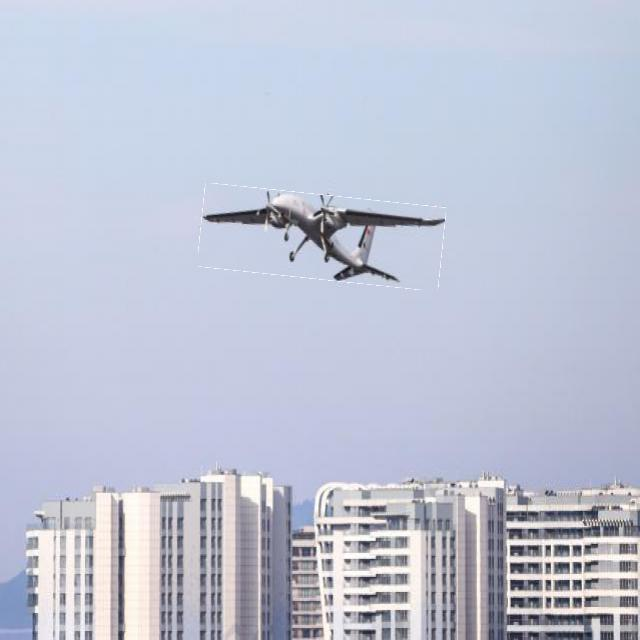iha: (213, 216, 437, 243)
